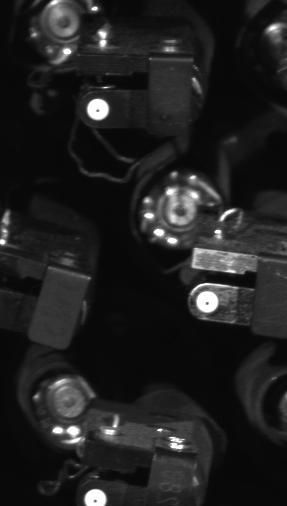fiber: (83, 94, 113, 127), (192, 288, 223, 318), (80, 483, 110, 506)
